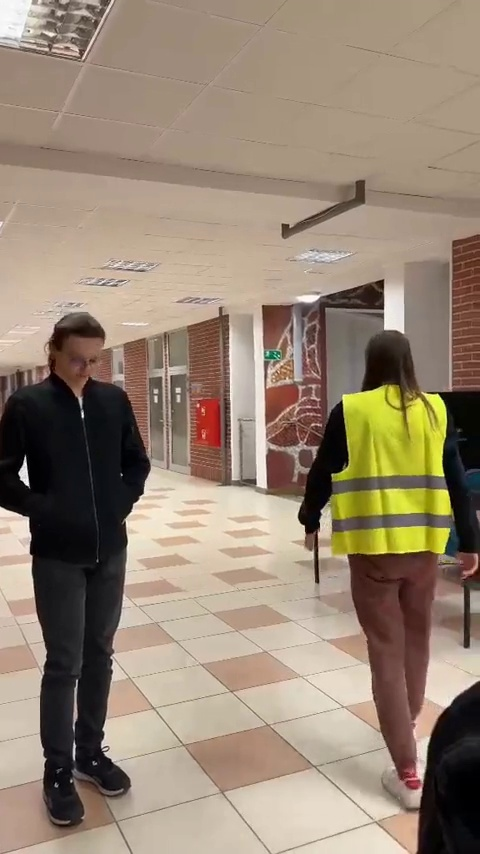no vest: (3, 308, 151, 831)
vest: (295, 326, 475, 806)
